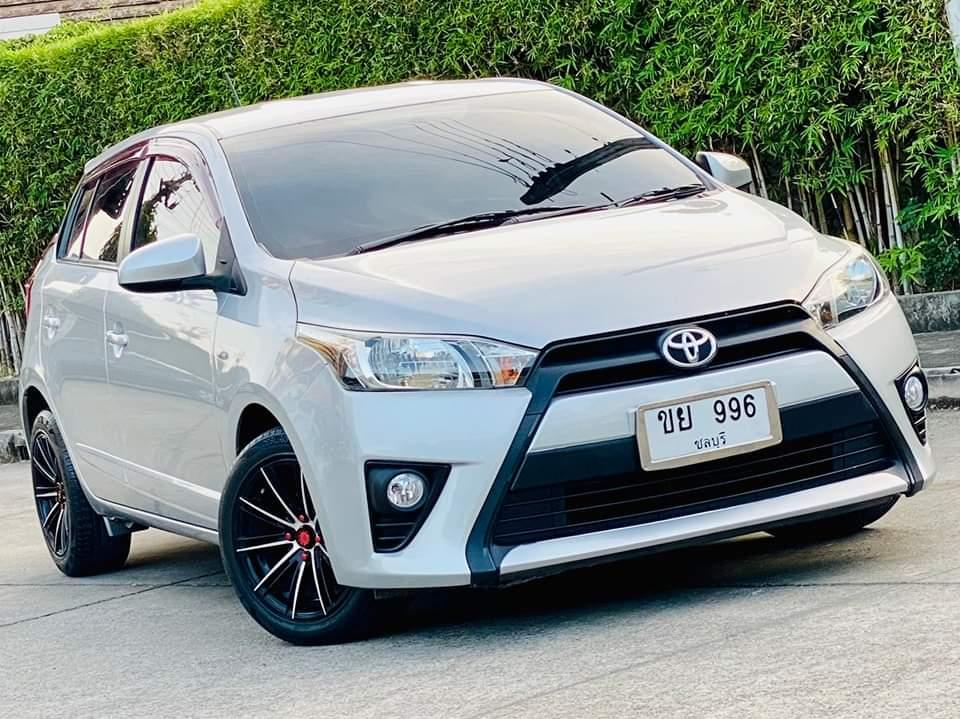license-plate: (636, 375, 789, 474)
